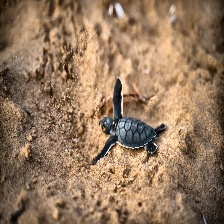seaturtle: (92, 78, 167, 165)
